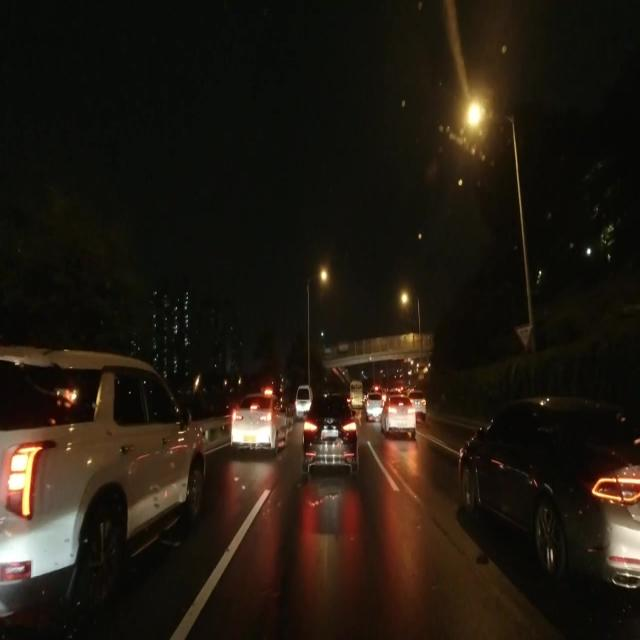Car: (6, 341, 203, 612), (459, 397, 639, 591), (300, 393, 357, 472), (231, 393, 291, 451), (381, 395, 414, 433), (365, 397, 384, 419)
